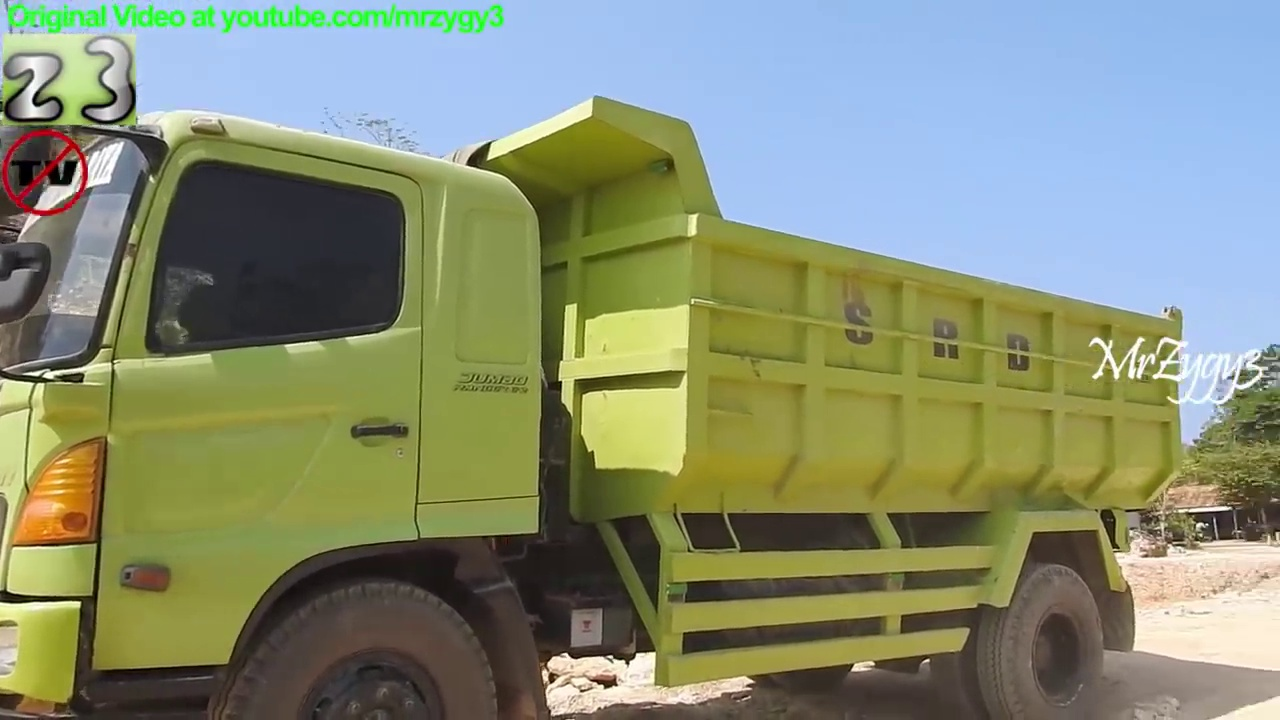truck: (1, 88, 1184, 720)
